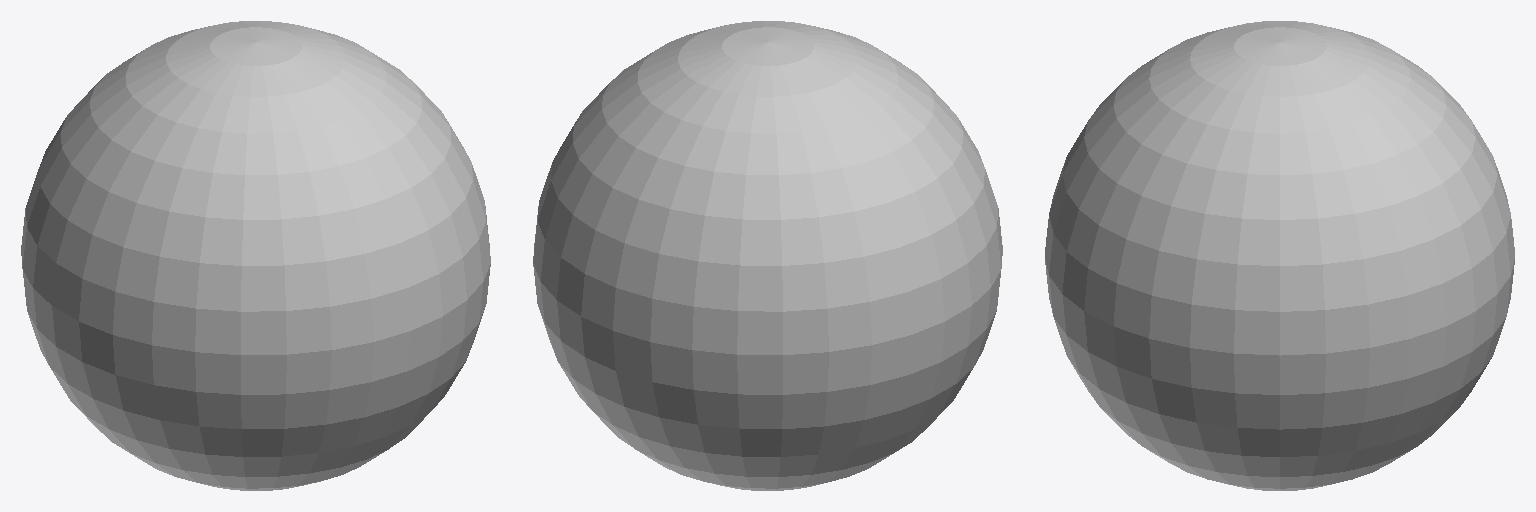
File: spherelight.obj
The picture shows the model from 3 angles: view 1: azimuth 30°, elevation 25°; view 2: azimuth 150°, elevation 25°; view 3: azimuth 270°, elevation 25°; orthographic projection.
Visible parts, largest first — view 1: Sphere; view 2: Sphere; view 3: Sphere.
Part boxes in pixels (x1,y1,x2,y2): Sphere: (21,21,490,490); Sphere: (533,21,1002,490); Sphere: (1045,21,1514,490).
Size of the model in its own units: 2 by 2 by 2.